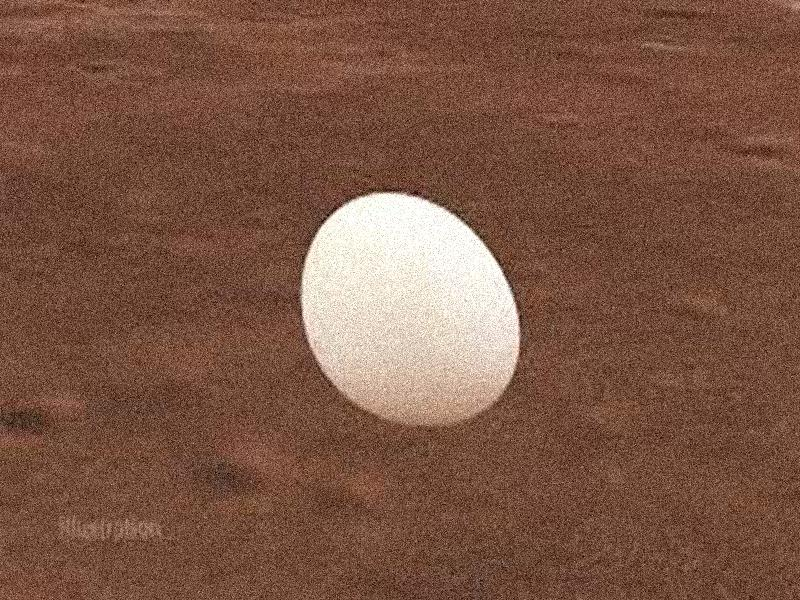Eggs: (300, 193, 522, 425)
